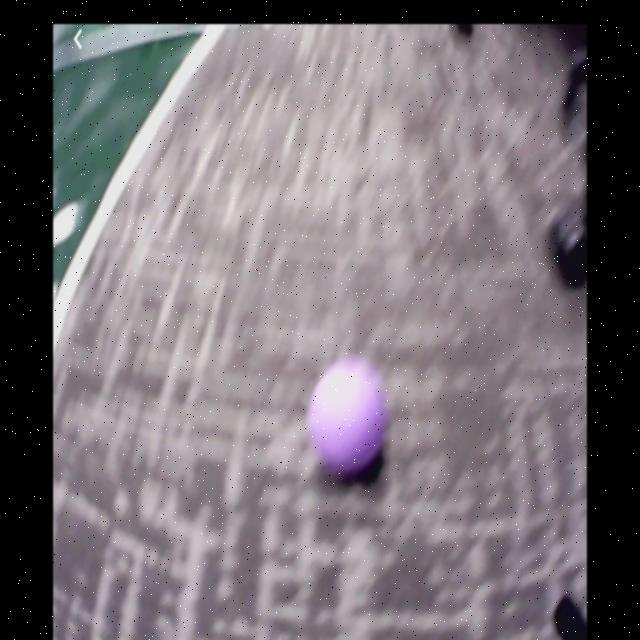ball: (313, 363, 382, 476)
